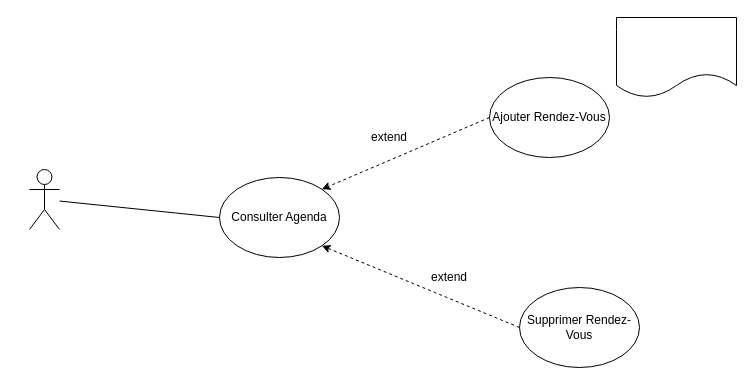
Some shapes in this 754 by 385 pixel diagram are drawn without their labels. The shapes that lost their labels are listed below. From the top down, each one's box as (x1, y1, x2, y2) in pixels, then its label:
(616, 16, 736, 98): Gérer Les Rendez-Vous
(28, 168, 60, 230): Secretaire
